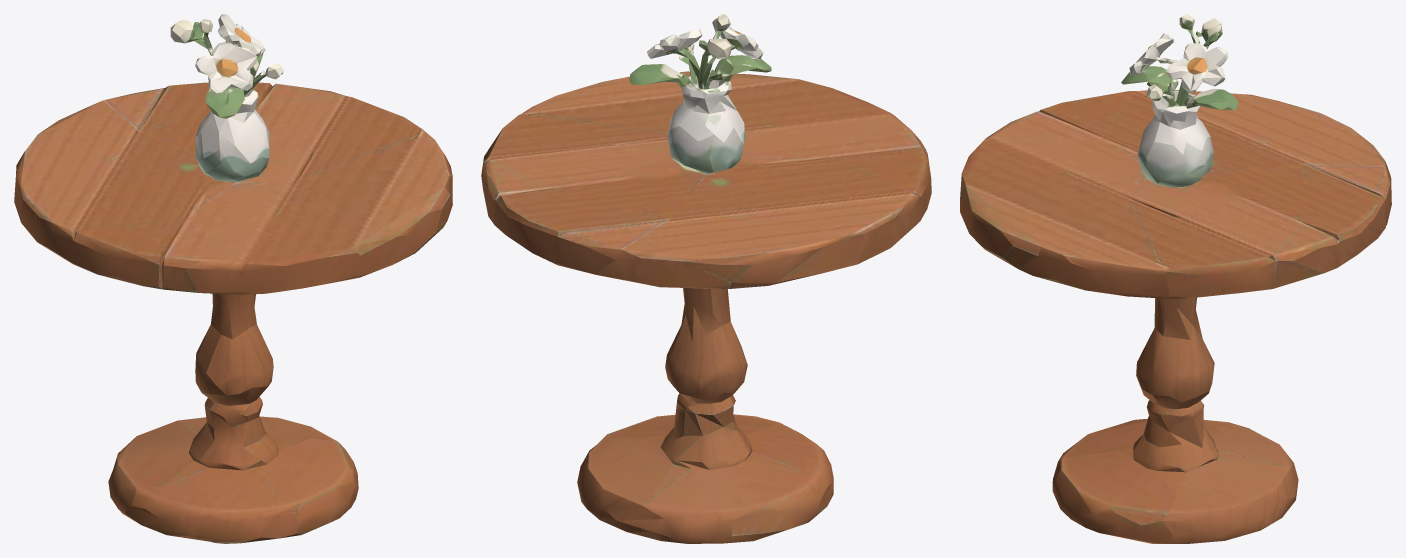
The model's file is cafe-round-table.glb.
3 views of the same model, side by side, from view 1: azimuth 30°, elevation 25°; view 2: azimuth 150°, elevation 25°; view 3: azimuth 270°, elevation 25° (orthographic). The views are drawn at different scales.
Parts seen in each view (by area): view 1: cafe-round-table-fit; view 2: cafe-round-table-fit; view 3: cafe-round-table-fit.
Boxes of the visible parts, x1,y1,x2,y2 form: cafe-round-table-fit: (14,14,452,543); cafe-round-table-fit: (481,14,931,543); cafe-round-table-fit: (960,14,1391,543).
Bounding box in the file's own units: 0.8376 × 1 × 0.8357.
Materials: 1 (1 with a texture image).
